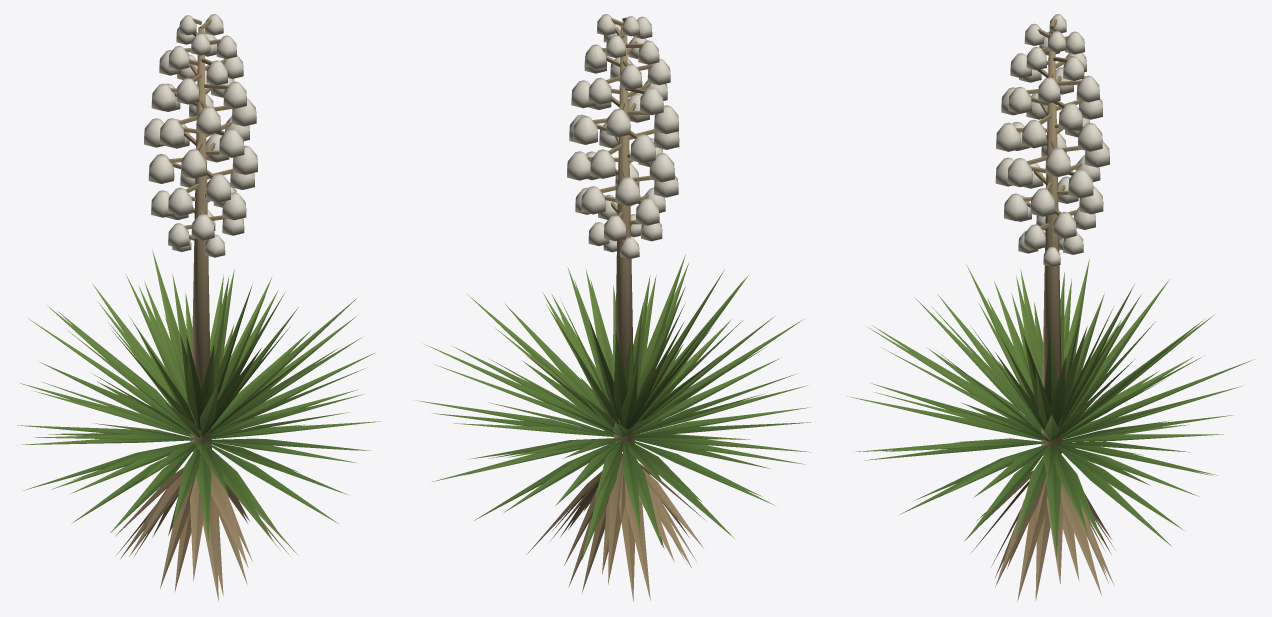
Rendered from yucca.glb.
3 renders of one model, left to right at view 1: azimuth 30°, elevation 25°; view 2: azimuth 150°, elevation 25°; view 3: azimuth 270°, elevation 25°, orthographic.
Visible parts, largest first — view 1: yucca; view 2: yucca; view 3: yucca.
Boxes of the visible parts, left/top/right/bottom form: yucca: left=17, top=14, right=380, bottom=601; yucca: left=415, top=14, right=811, bottom=601; yucca: left=847, top=14, right=1254, bottom=601.
Size of the model in its own units: 1.56 by 2.32 by 1.55.
